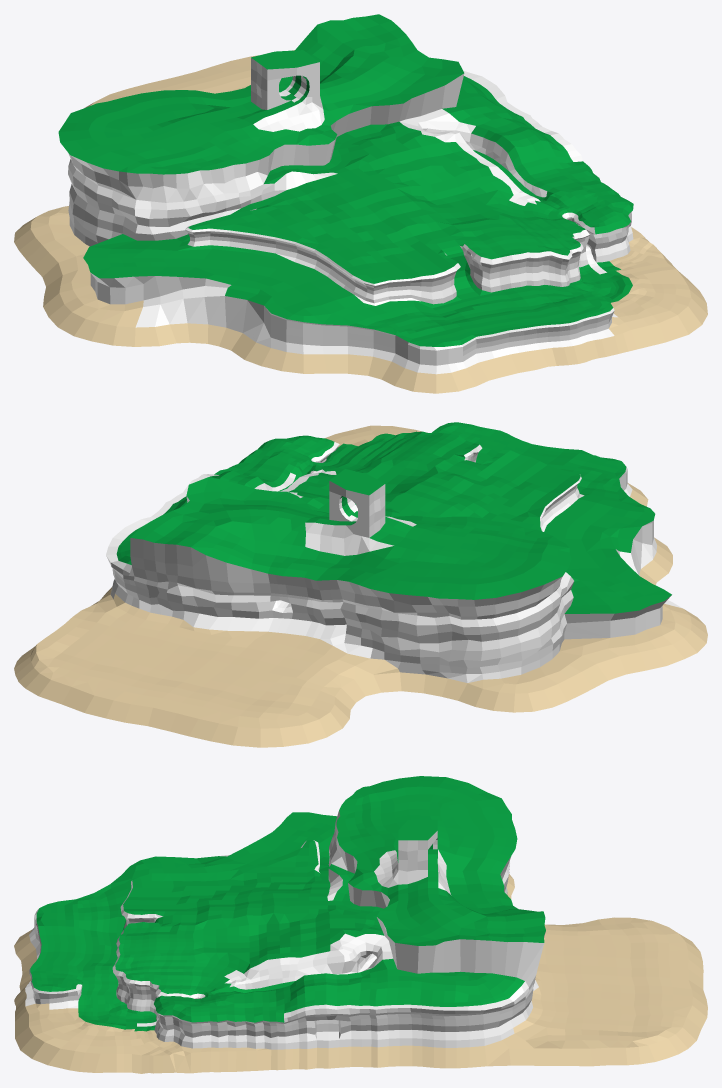
Rendered from map02.glb.
The picture shows the model from 3 angles, top to bottom: view 1: azimuth 30°, elevation 25°; view 2: azimuth 150°, elevation 25°; view 3: azimuth 270°, elevation 25°; orthographic projection. The views are drawn at different scales.
Parts seen in each view (by area): view 1: Plane; view 2: Plane; view 3: Plane.
Boxes of the visible parts, x1=… form: Plane: x1=14, y1=14, x2=707, y2=393; Plane: x1=14, y1=422, x2=707, y2=747; Plane: x1=14, y1=776, x2=707, y2=1073.
Bounding box in the file's own units: 139 × 39.35 × 176.
